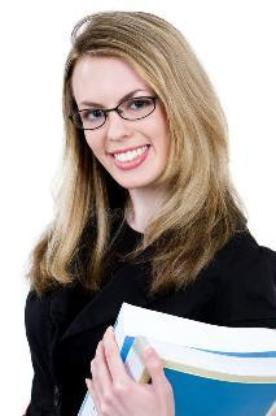person: (20, 1, 276, 416)
